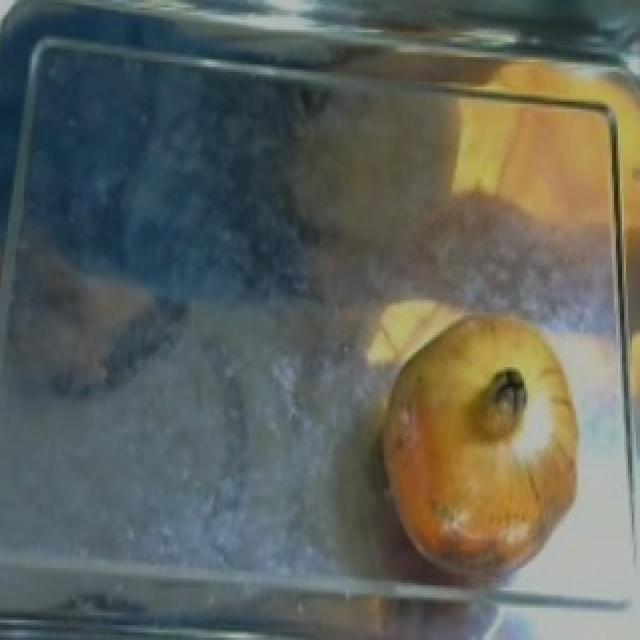fruit: (362, 295, 594, 558)
